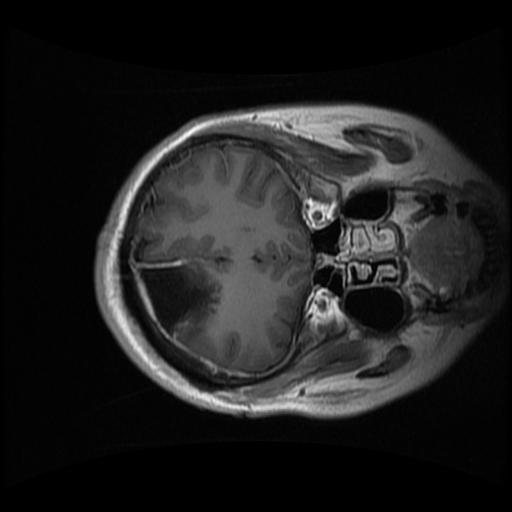glioma: (139, 263, 215, 336)
